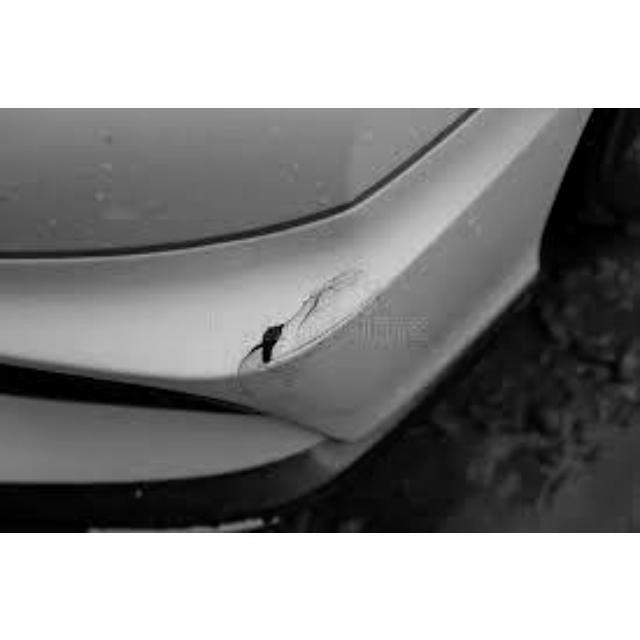front-bumper-dent: (1, 212, 610, 528)
